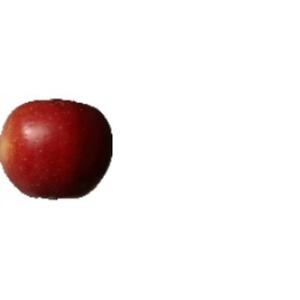maçã braeburn: (1, 94, 120, 202)
